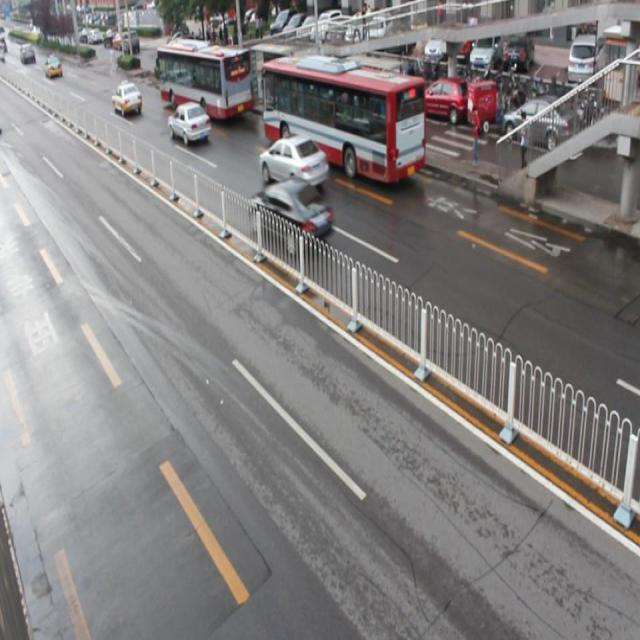car: (248, 175, 332, 252), (260, 134, 328, 194), (168, 100, 212, 144), (111, 81, 142, 117)
van: (262, 57, 425, 181), (157, 42, 252, 119)
